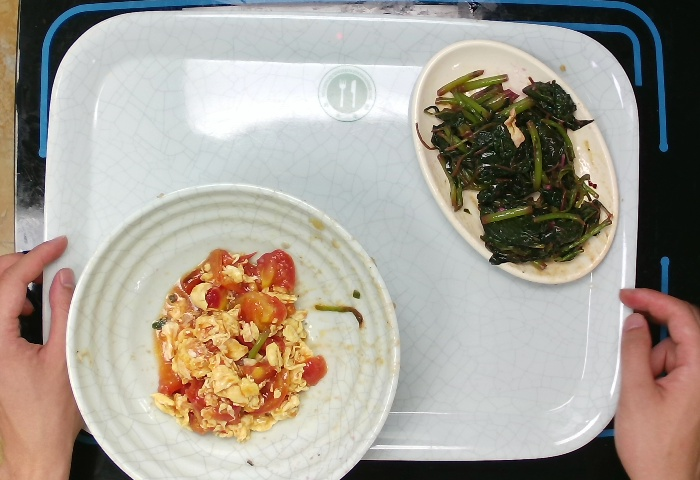JYsf-Da_Tang_Wan: (62, 177, 403, 480)
JYsf-Tuo_Yuan_Wan: (403, 32, 624, 288)
